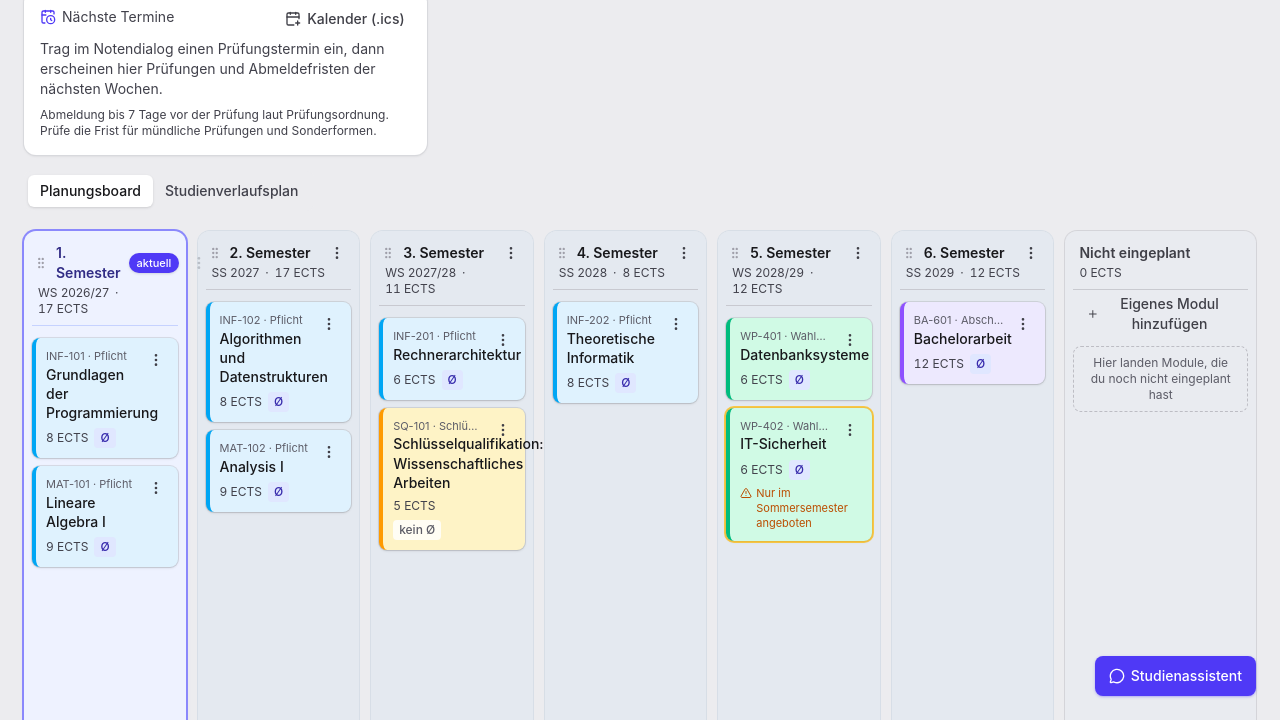
board › enters a grade and updates the running average
The width and height of the screenshot is (1280, 720).
(page scrolled)
Click the button named "Aktionen für Grundlagen der Programmierung" at (156, 360), box [140,344,172,376]
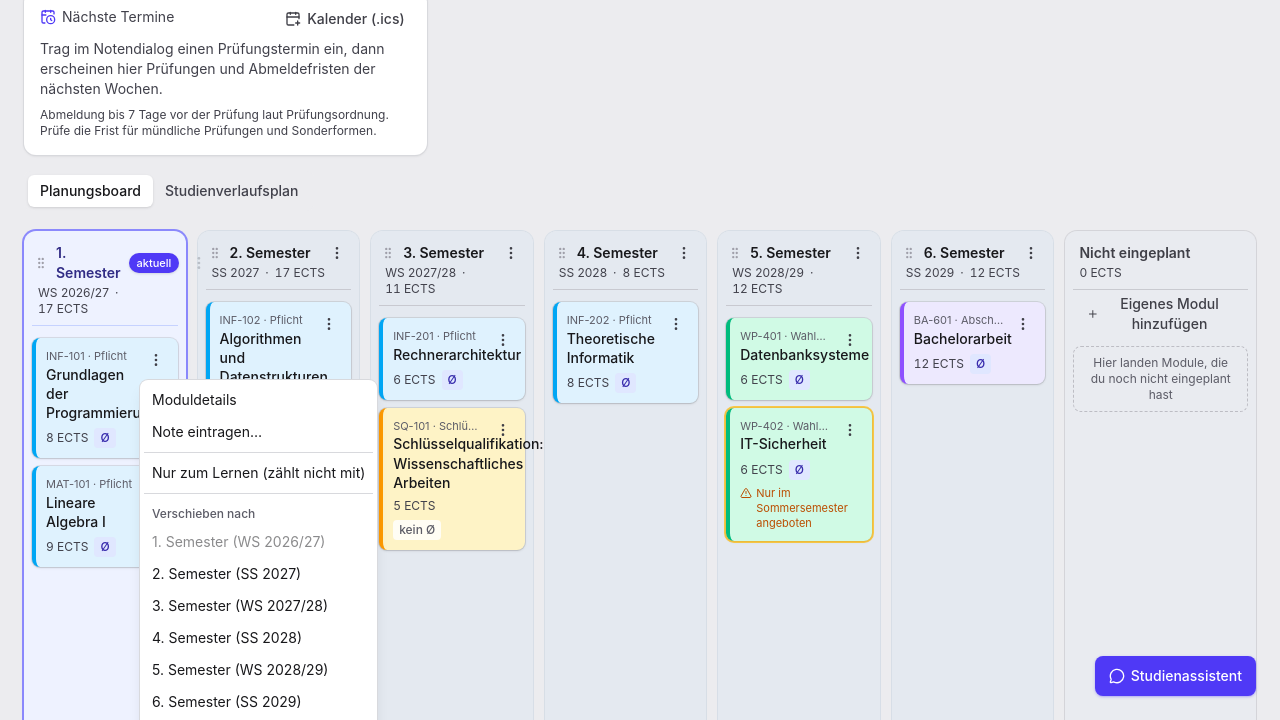
Click the menu item "Note eintragen…" at (207, 432), box [152,423,262,440]
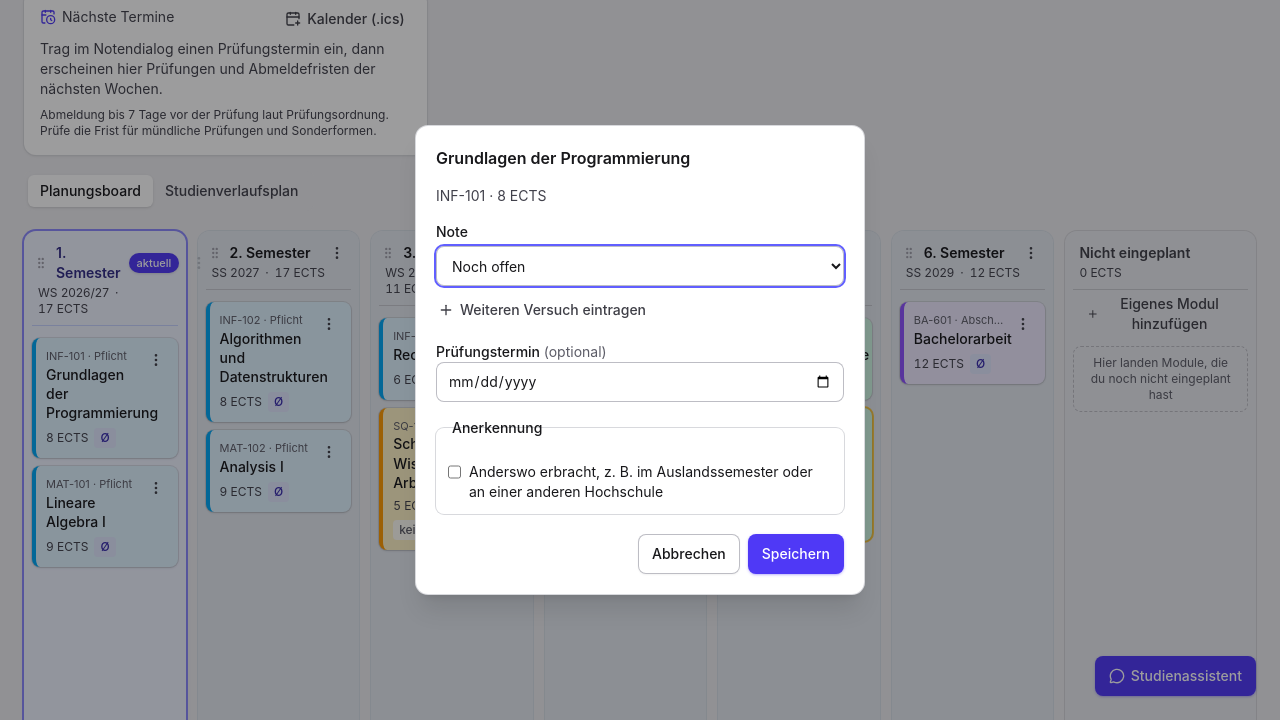
Select "1,3" in the dropdown labelled "Note" at (640, 266), box [436,246,844,286]
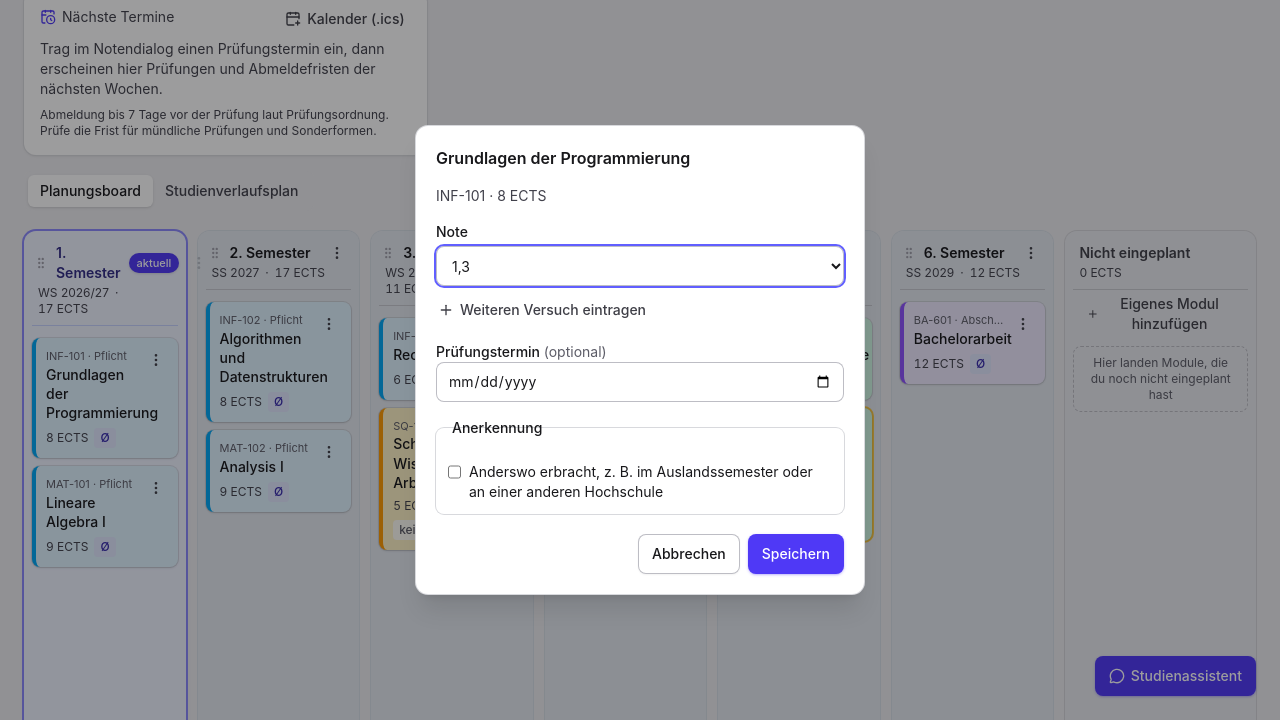
Click the button "Speichern" at (796, 554), box [748,534,844,574]
(page scrolled)
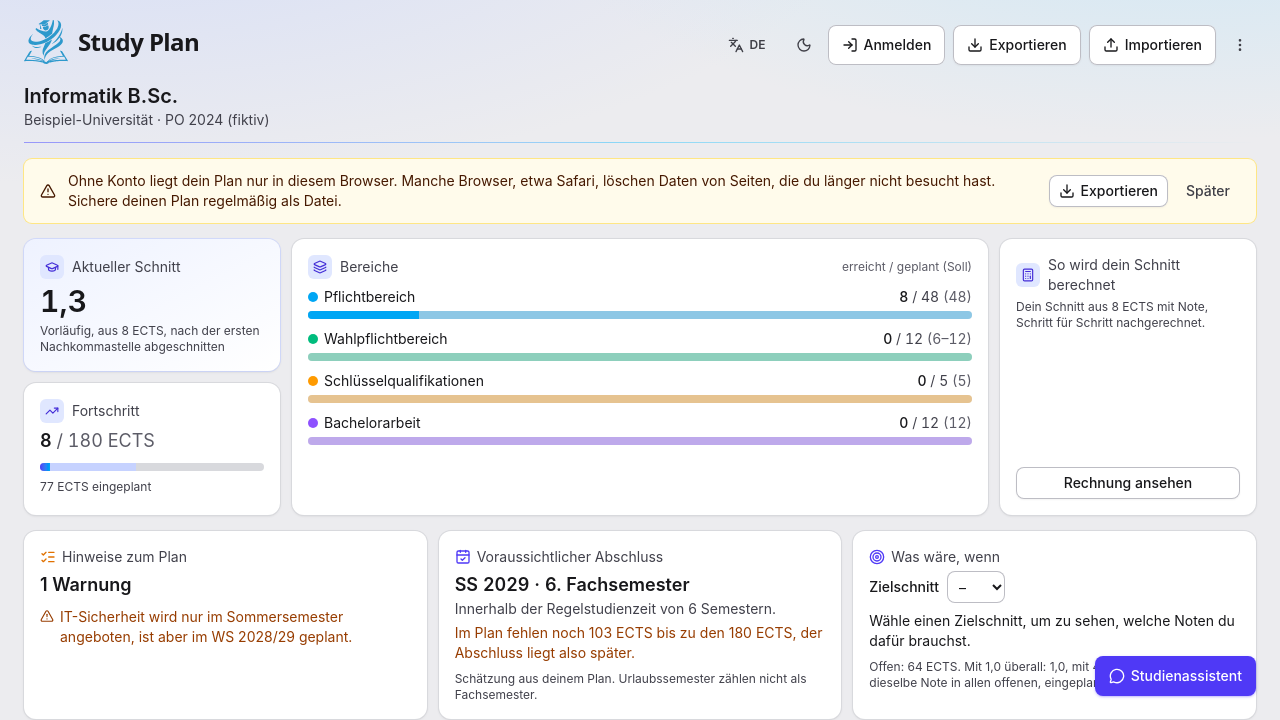
Expected: the text with test id "overall-grade" reads "1,3", [40,283,87,319]
Expected: the dialog is gone
